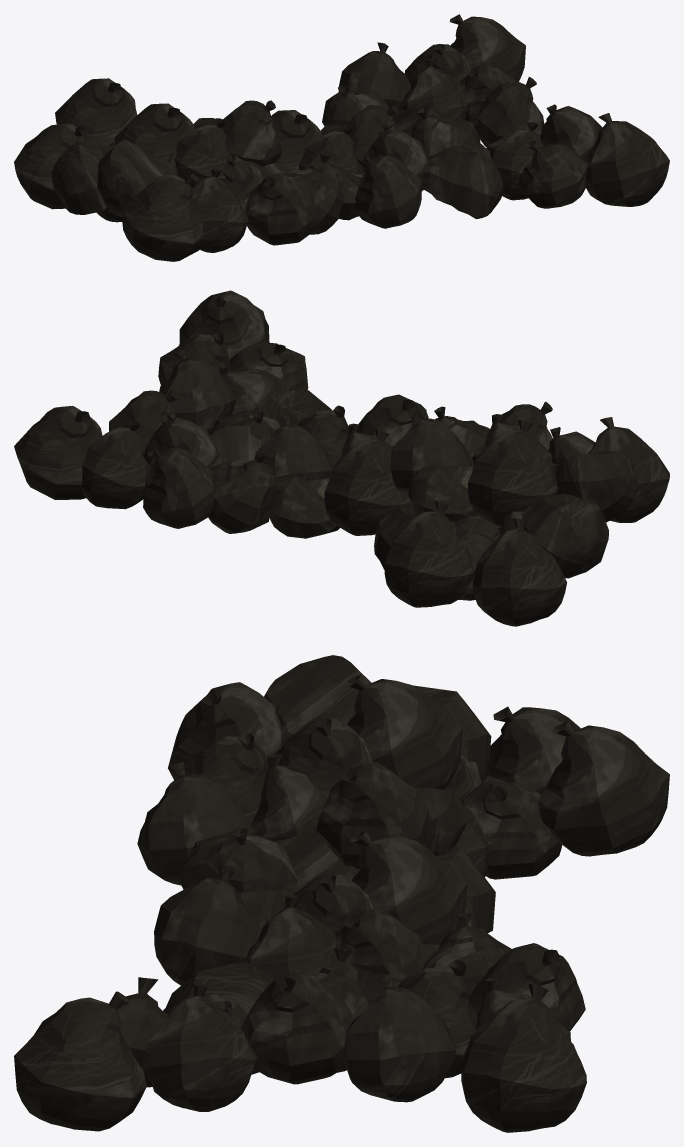
File: SM_trshPile1.fbx
3 views of the same model, one above another, from view 1: azimuth 30°, elevation 25°; view 2: azimuth 150°, elevation 25°; view 3: azimuth 270°, elevation 25° (orthographic). The views are drawn at different scales.
Visible parts, largest first — view 1: SM_grbgepile1; view 2: SM_grbgepile1; view 3: SM_grbgepile1.
Part boxes in pixels (x1,y1,x2,y2): SM_grbgepile1: (14,14,669,261); SM_grbgepile1: (14,290,669,626); SM_grbgepile1: (14,655,669,1132).
Bounding box in the file's own units: 314 × 86.27 × 236.
